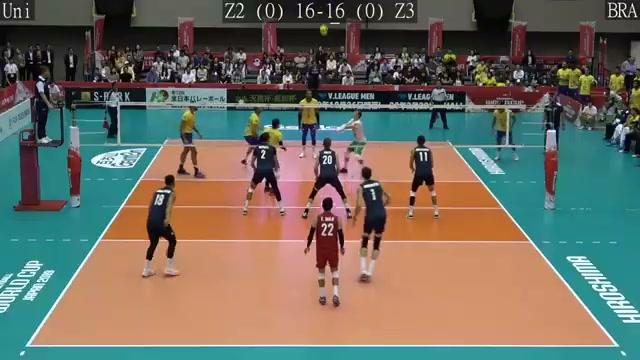ball: (317, 25, 329, 34)
